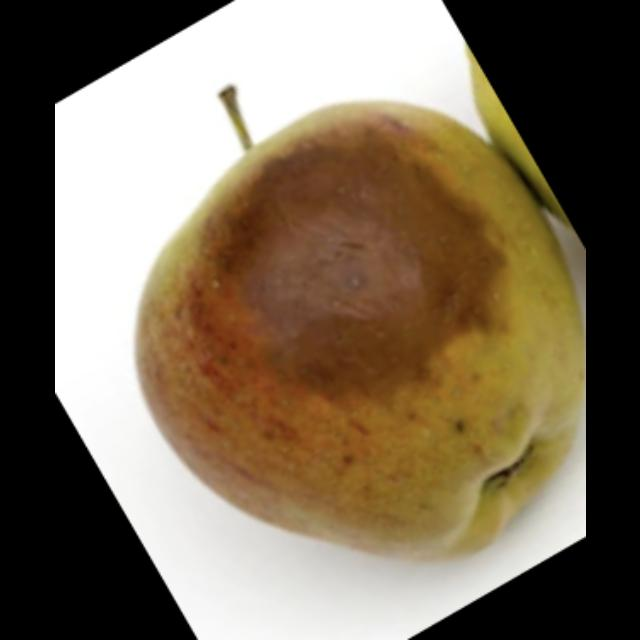Apel Tidak Segar: (132, 100, 584, 562)
